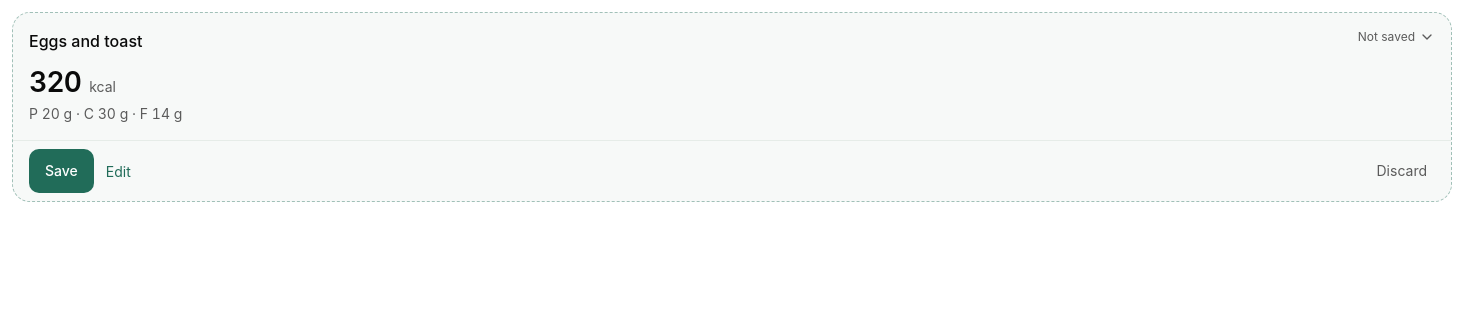
it: lets validation failures be revised without changing proposal identity
What coordinates should you click on to do the following:
click the button "Save"
I would click on:
 (61, 171)
Its box is [29, 149, 94, 193].
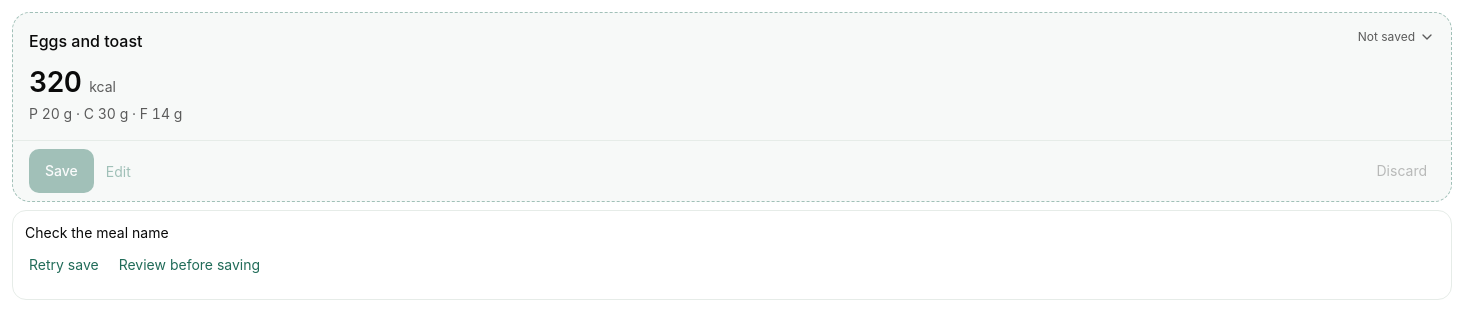
Check: the text "Check the meal name" is shown, box [25, 224, 169, 241]
What coordinates should you click on to do the following:
click the button "Review before saving"
I would click on:
 (189, 265)
Its box is [115, 243, 264, 287].
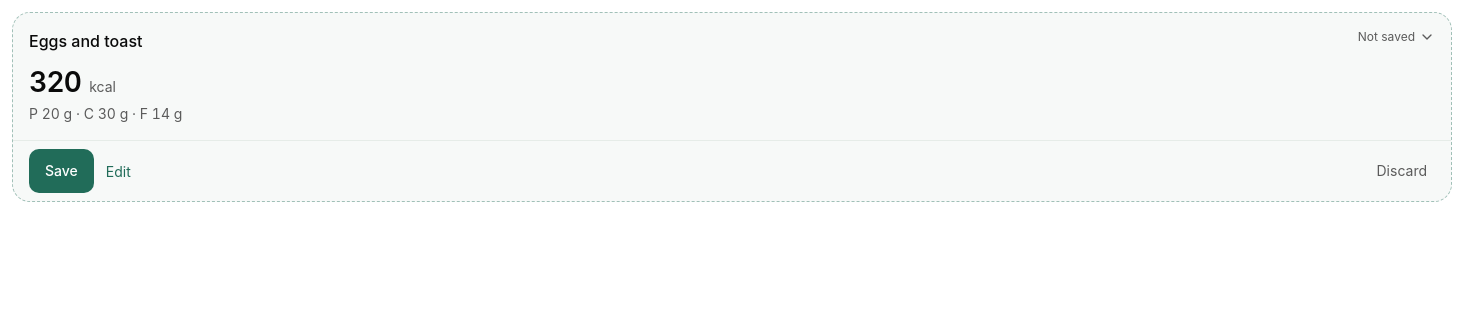
Check: the button "Edit" is enabled, box [102, 149, 135, 193]
Check: the message "Check the meal name Retry save Review before saving" is gone
